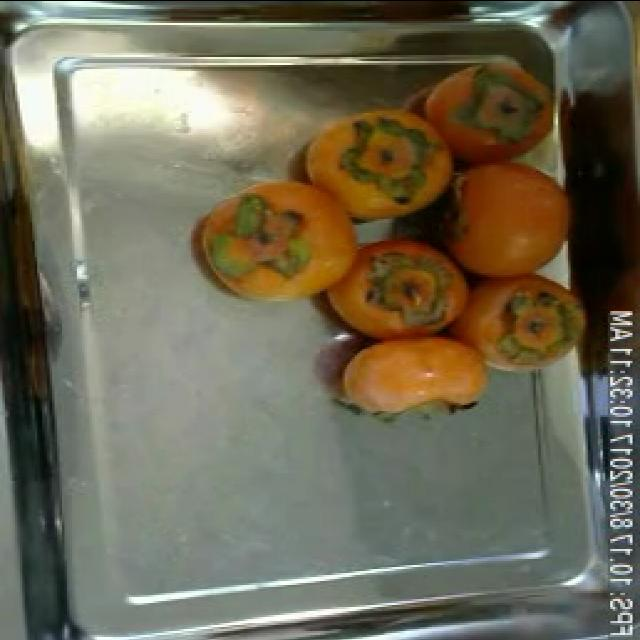Fruit: (404, 138, 596, 290), (330, 318, 506, 426)
